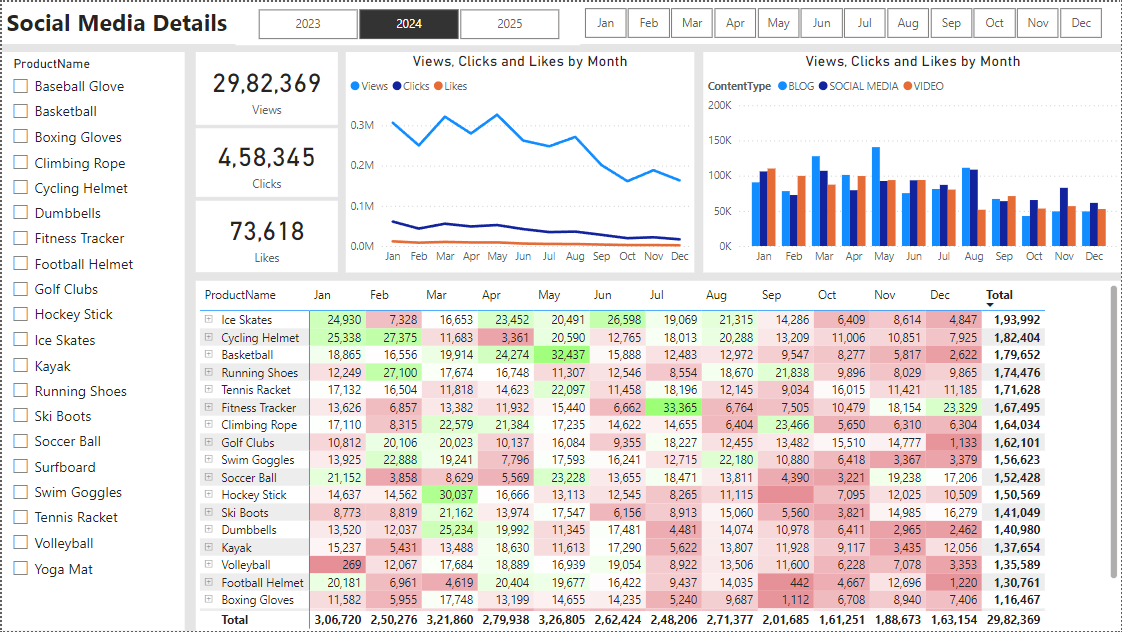

The dashboard page shown, as its layout file describes it:
{"tool":"powerbi","page":{"name":"Social Media Details","canvas":[1280,720],"ordinal":2},"visuals":[{"type":"textbox","box":[0,0,1280.3,47.7],"z":0},{"type":"slicer","fields":{"Values":["dim_products.ProductName"]},"box":[0,57.5,209.1,662.8],"z":1000},{"type":"card","fields":{"Values":["Calculations.Views"]},"box":[221.3,57.5,162.6,83.2],"z":2000},{"type":"card","fields":{"Values":["Calculations.Clicks"]},"box":[221.3,144.3,162.6,78.3],"z":3000},{"type":"card","fields":{"Values":["Calculations.Likes"]},"box":[221.3,227.4,162.6,81.9],"z":4000},{"type":"actionButton","box":[0,0,100.3,40.4],"z":5000},{"type":"slicer","fields":{"Values":["Calendar.Year"]},"box":[266.6,1.2,393.8,47.7],"z":6000},{"type":"slicer","fields":{"Values":["Calendar.MonthNameShort"]},"box":[639.5,0,640.8,47.7],"z":7000},{"type":"lineChart","title":"Views, Clicks and Likes by Month","fields":{"Category":["Calendar.MonthNameShort"],"Y":["Calculations.Views","Calculations.Clicks","Calculations.Likes"]},"box":[392.5,57.5,398.6,251.9],"z":8000},{"type":"clusteredColumnChart","title":"Views, Clicks and Likes by Month","fields":{"Category":["Calendar.MonthNameShort"],"Series":["fact_enagagement_data.ContentType"],"Y":["Calculations.Views"]},"box":[801,57.5,479.4,251.9],"z":9000},{"type":"pivotTable","fields":{"Rows":["dim_products.ProductName","fact_enagagement_data.ContentType"],"Columns":["Calendar.MonthNameShort"],"Values":["Calculations.Views"]},"box":[221.3,317.9,1059,402.3],"z":10000}]}

Visuals, with their boxes in screenshot pixels (x1, y1, x2, y2), scaled from the page's 1280x720 canvas onto the 1122x632 screenshot:
textbox: BBox(0, 0, 1121, 42)
slicer - dim_products.ProductName: BBox(0, 50, 183, 631)
card - Calculations.Views: BBox(194, 50, 337, 124)
card - Calculations.Clicks: BBox(194, 127, 337, 195)
card - Calculations.Likes: BBox(194, 200, 337, 271)
actionButton: BBox(0, 0, 88, 35)
slicer - Calendar.Year: BBox(234, 1, 579, 43)
slicer - Calendar.MonthNameShort: BBox(561, 0, 1121, 42)
"Views, Clicks and Likes by Month" lineChart: BBox(344, 50, 693, 272)
"Views, Clicks and Likes by Month" clusteredColumnChart: BBox(702, 50, 1121, 272)
pivotTable - dim_products.ProductName x fact_enagagement_data.ContentType: BBox(194, 279, 1121, 631)
